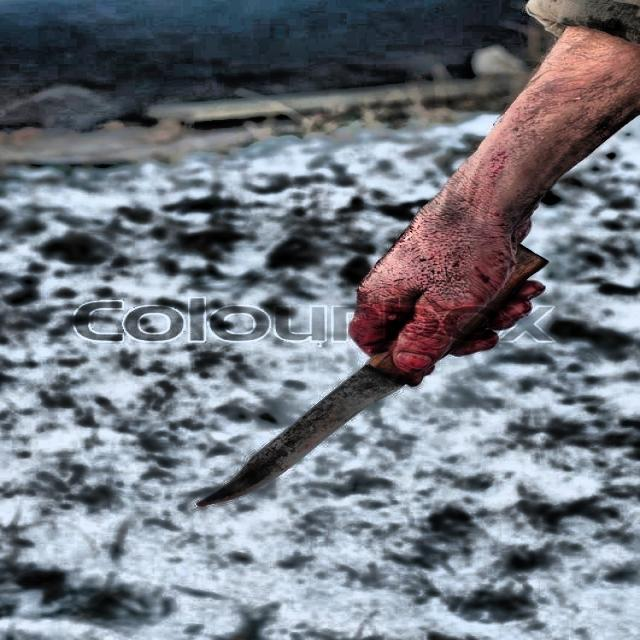knife: (203, 242, 549, 506)
